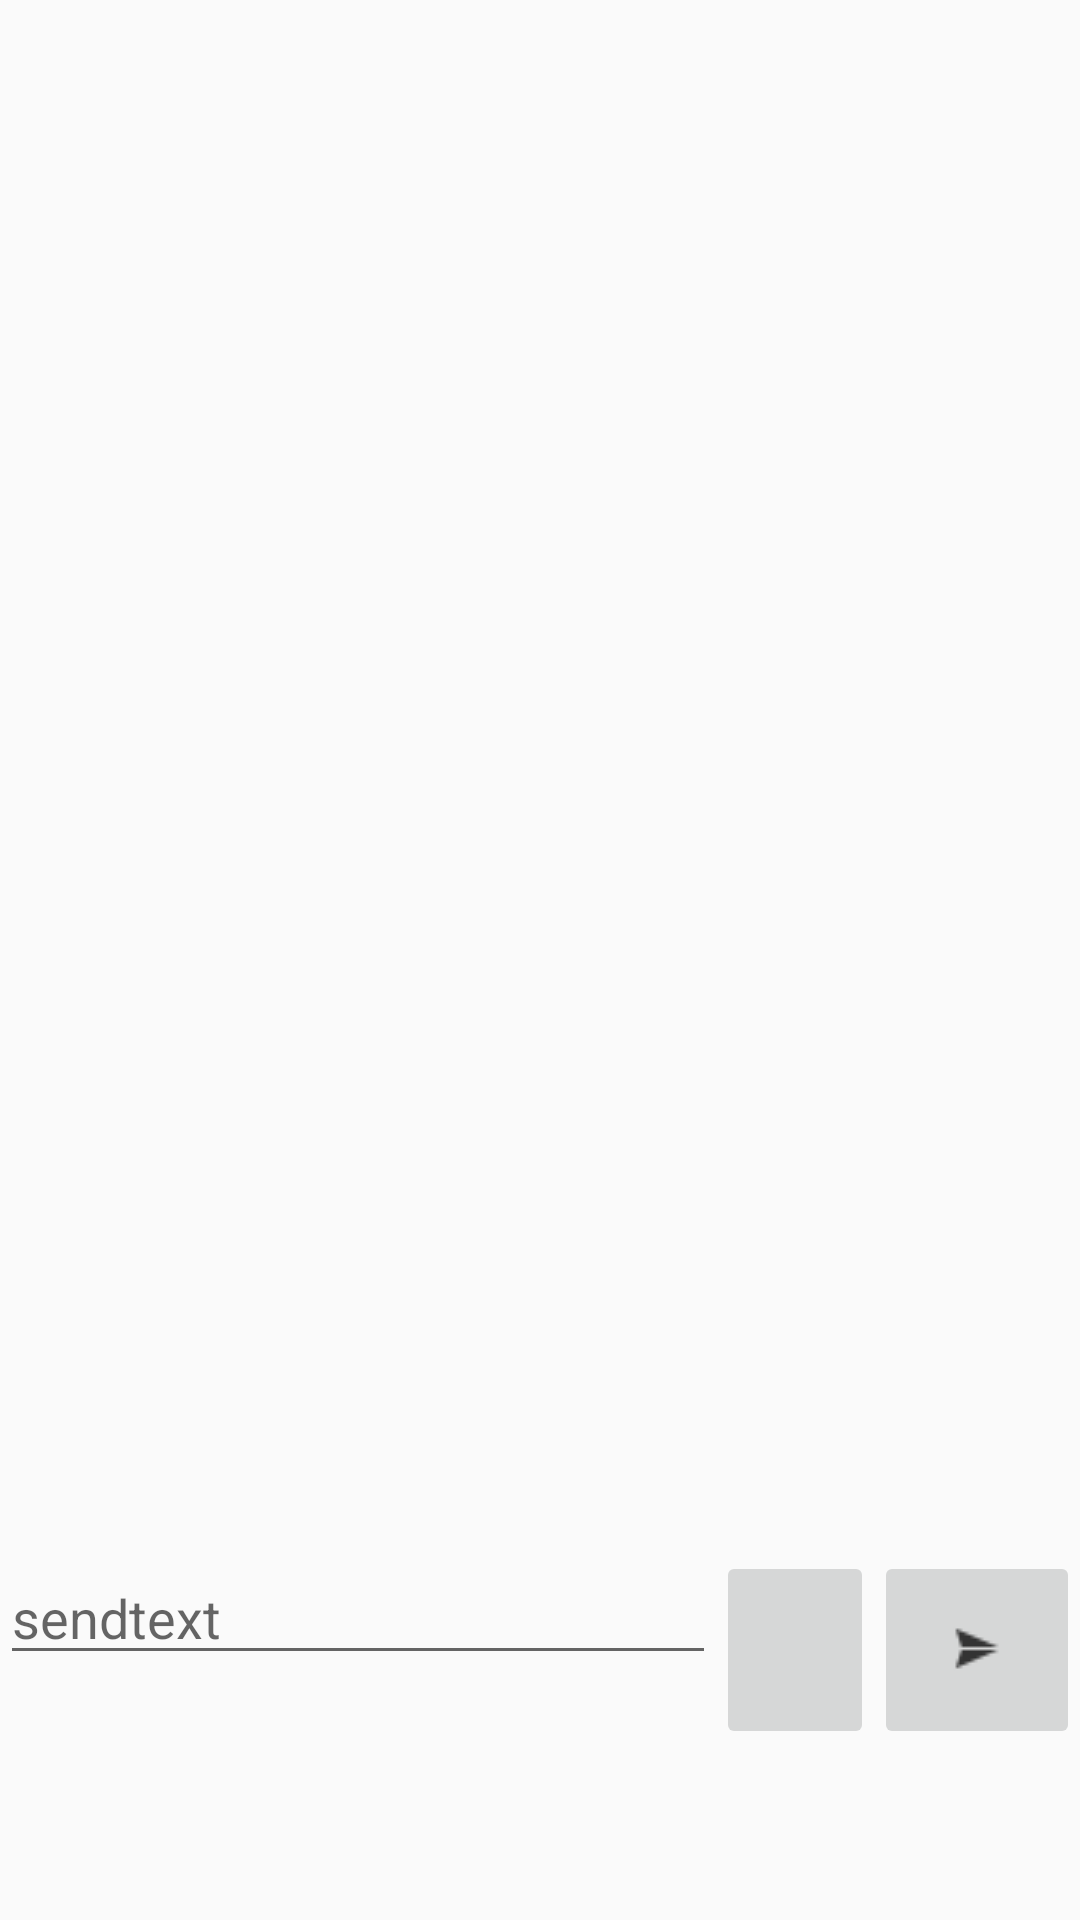

Named icons in this screenshot (1080*1920) and their centers, (x,y):
send: (977,1650)
